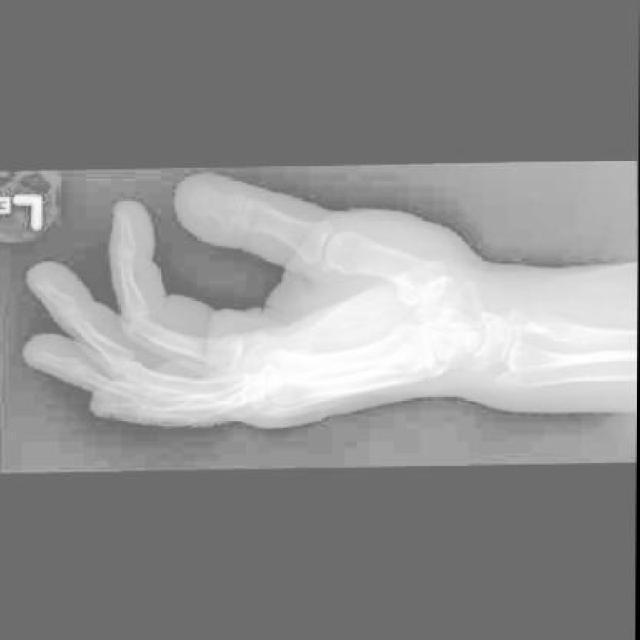Fracture: (385, 276, 427, 313)
